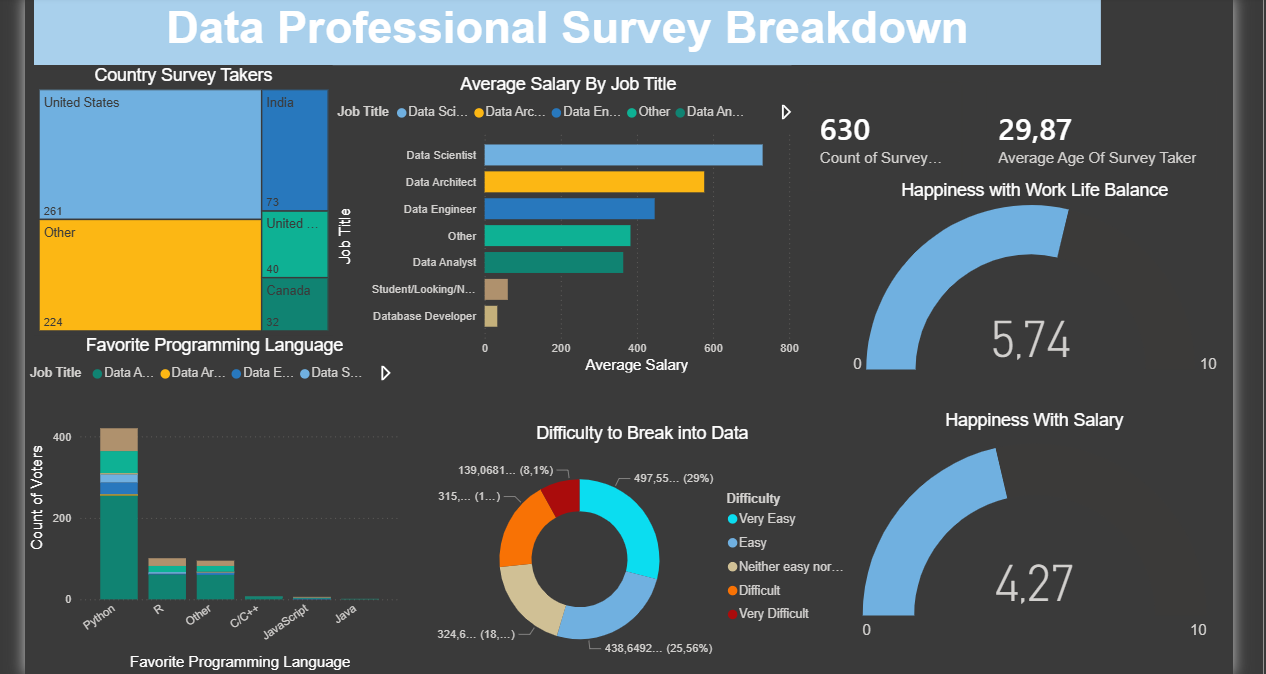

The dashboard page shown, as its layout file describes it:
{"tool":"powerbi","page":{"name":"Page 1","canvas":[1280,720],"ordinal":0},"visuals":[{"type":"textbox","box":[9.6,0,1131.3,73.5],"z":0},{"type":"cardVisual","fields":{"Data":["CountNonNull(Data Professional Survey.Unique ID)"]},"box":[813.3,73.3,198.3,150],"z":1000},{"type":"cardVisual","fields":{"Data":["Avg(Data Professional Survey.Q10 - Current Age)"]},"box":[1001.4,73.6,279.2,150],"z":2000},{"type":"barChart","title":"Average Salary By Job Title","fields":{"Category":["Data Professional Survey.Q1 - Which Title Best Fits your Current Role?.1"],"Y":["Avg(Data Professional Survey.Average Salary)"],"Series":["Data Professional Survey.Q1 - Which Title Best Fits your Current Role?.1"]},"box":[326.7,83.3,500,321.7],"z":3000},{"type":"columnChart","title":"Favorite Programming Language","fields":{"Category":["Data Professional Survey.Q5 - Favorite Programming Language.1"],"Y":["CountNonNull(Data Professional Survey.Unique ID)"],"Series":["Data Professional Survey.Q1 - Which Title Best Fits your Current Role?.1"]},"box":[0,360,401.7,360],"z":4000},{"type":"treemap","title":"Country Survey Takers","fields":{"Group":["Data Professional Survey.Q11 - Which Country do you live in?.1"],"Values":["CountNonNull(Data Professional Survey.Q11 - Which Country do you live in?.1)"]},"box":[10,73.3,316.7,286.7],"z":5000},{"type":"gauge","title":"Happiness with Work Life Balance ","fields":{"Y":["Avg(Data Professional Survey.Q6 - How Happy are you in your Current Position with the following? (Work/Life Balance))"],"MinValue":["Min(Data Professional Survey.Q6 - How Happy are you in your Current Position with the following? (Work/Life Balance))"],"MaxValue":["Max(Data Professional Survey.Q6 - How Happy are you in your Current Position with the following? (Work/Life Balance))1"]},"box":[860,195,420,210],"z":6000},{"type":"gauge","title":"Happiness With Salary","fields":{"Y":["Avg(Data Professional Survey.Q6 - How Happy are you in your Current Position with the following? (Salary))"],"MinValue":["Min(Data Professional Survey.Q6 - How Happy are you in your Current Position with the following? (Salary))"],"MaxValue":["Max(Data Professional Survey.Q6 - How Happy are you in your Current Position with the following? (Salary))"]},"box":[883.3,438.3,375,260],"z":7000},{"type":"donutChart","title":"Difficulty to Break into Data","fields":{"Y":["Avg(Data Professional Survey.Average Salary)"],"Category":["Data Professional Survey.Q7 - How difficult was it for you to break into Data?"]},"box":[426.7,453.3,456.7,266.7],"z":8000}]}

Visuals, with their boxes on the page's 1280x720 design canvas (x1, y1, x2, y2). These are canvas units, not pixel positions in the 1266x674 screenshot, which may show the page scaled, cropped or inside an application window:
textbox: region(10, 0, 1141, 74)
cardVisual - CountNonNull(Data Professional Survey.Unique ID): region(813, 73, 1012, 223)
cardVisual - Avg(Data Professional Survey.Q10 - Current Age): region(1001, 74, 1281, 224)
"Average Salary By Job Title" barChart: region(327, 83, 827, 405)
"Favorite Programming Language" columnChart: region(0, 360, 402, 720)
"Country Survey Takers" treemap: region(10, 73, 327, 360)
"Happiness with Work Life Balance " gauge: region(860, 195, 1280, 405)
"Happiness With Salary" gauge: region(883, 438, 1258, 698)
"Difficulty to Break into Data" donutChart: region(427, 453, 883, 720)
